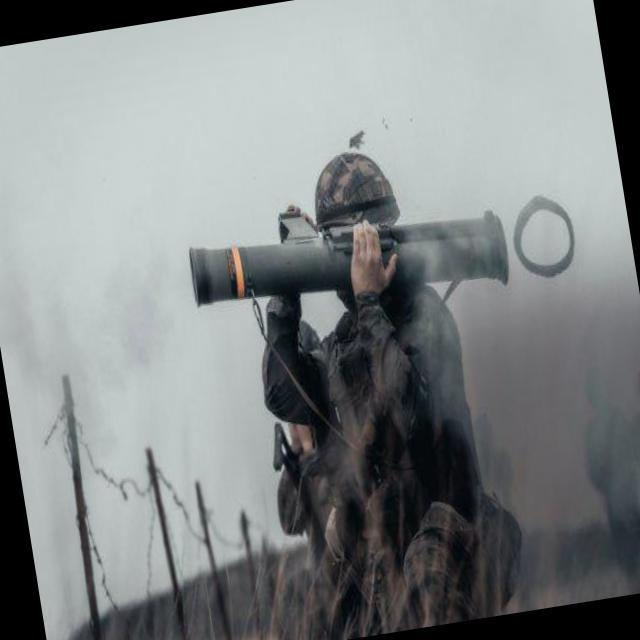rocket: (181, 182, 515, 334)
